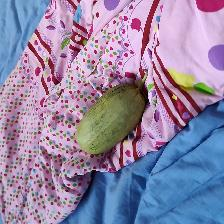gua: (81, 95, 134, 150)
